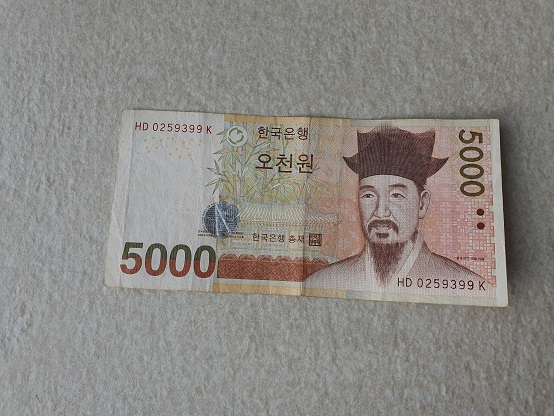5000won: (104, 108, 510, 309)
